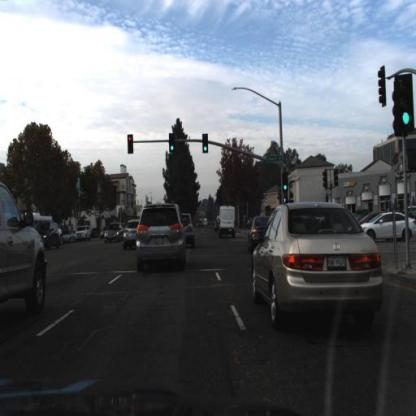car: (252, 196, 385, 328), (1, 181, 52, 327), (135, 201, 186, 276), (362, 206, 416, 238), (246, 211, 275, 262), (121, 216, 142, 252), (218, 200, 239, 233), (181, 210, 196, 254), (103, 223, 126, 248), (74, 225, 92, 244)
trafficLight: (282, 171, 291, 194), (169, 133, 177, 156), (204, 133, 212, 152), (129, 133, 134, 154)
trafficLight-Green: (396, 76, 414, 132)
